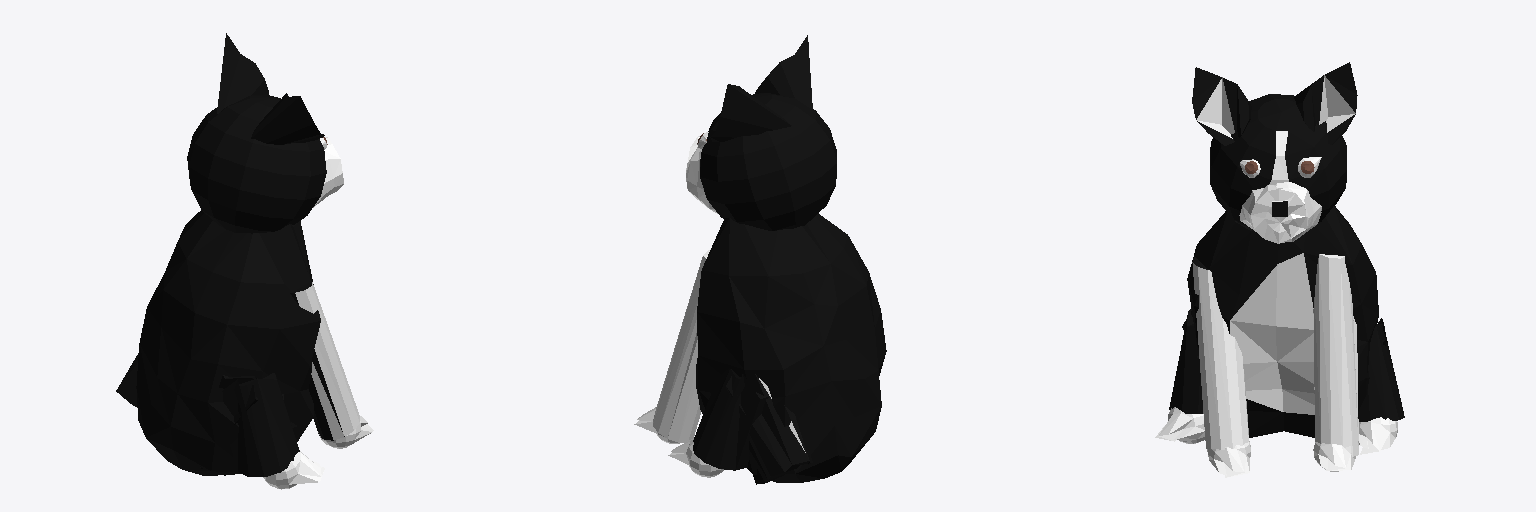
The picture shows the model from 3 angles: view 1: azimuth 30°, elevation 25°; view 2: azimuth 150°, elevation 25°; view 3: azimuth 270°, elevation 25°; orthographic projection.
Visible parts, largest first — view 1: group[number redacted], group[number redacted], group[number redacted], group[number redacted], group[number redacted], group[number redacted], group[number redacted], group[number redacted], group[number redacted], group[number redacted]; view 2: group[number redacted], group[number redacted], group[number redacted], group[number redacted], group[number redacted], group[number redacted], group[number redacted], group[number redacted], group[number redacted]; view 3: group[number redacted], group[number redacted], group[number redacted], group[number redacted], group[number redacted], group[number redacted], group[number redacted], group[number redacted], group[number redacted], group[number redacted], group[number redacted], group[number redacted] (+1 smaller).
Boxes of the visible parts, x1,y1,x2,y2 form: group[number redacted]: [136, 210, 320, 475]; group[number redacted]: [187, 95, 326, 233]; group[number redacted]: [222, 373, 299, 476]; group[number redacted]: [290, 281, 359, 440]; group[number redacted]: [251, 93, 324, 144]; group[number redacted]: [217, 33, 268, 113]; group[number redacted]: [263, 451, 324, 489]; group[number redacted]: [313, 137, 343, 207]; group[number redacted]: [116, 353, 138, 407]; group[number redacted]: [318, 416, 373, 448]; group[number redacted]: [696, 213, 886, 482]; group[number redacted]: [700, 93, 836, 230]; group[number redacted]: [693, 368, 769, 470]; group[number redacted]: [653, 249, 710, 442]; group[number redacted]: [726, 374, 812, 484]; group[number redacted]: [710, 84, 791, 141]; group[number redacted]: [755, 35, 812, 109]; group[number redacted]: [686, 136, 717, 213]; group[number redacted]: [668, 438, 723, 477]; group[number redacted]: [1187, 206, 1378, 437]; group[number redacted]: [1210, 94, 1346, 227]; group[number redacted]: [1313, 254, 1358, 459]; group[number redacted]: [1192, 257, 1248, 449]; group[number redacted]: [1239, 182, 1321, 243]; group[number redacted]: [1192, 67, 1251, 145]; group[number redacted]: [1294, 62, 1357, 144]; group[number redacted]: [1358, 318, 1404, 421]; group[number redacted]: [1169, 308, 1202, 413]; group[number redacted]: [1155, 407, 1204, 443]; group[number redacted]: [1359, 417, 1397, 454]; group[number redacted]: [1207, 441, 1250, 477].
Bounding box in the file's own units: 1.02 × 1.91 × 1.1.